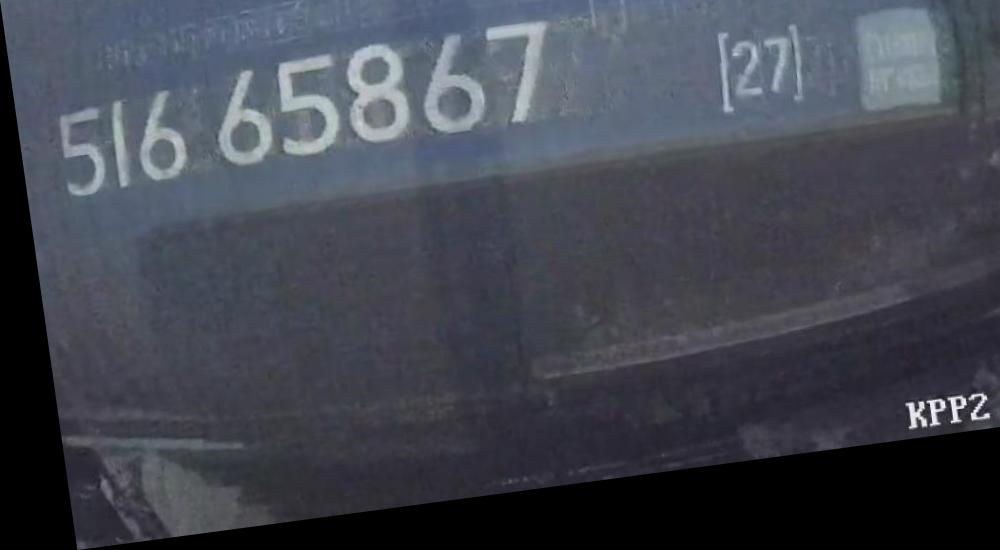Wagon-number: (39, 28, 572, 199)
